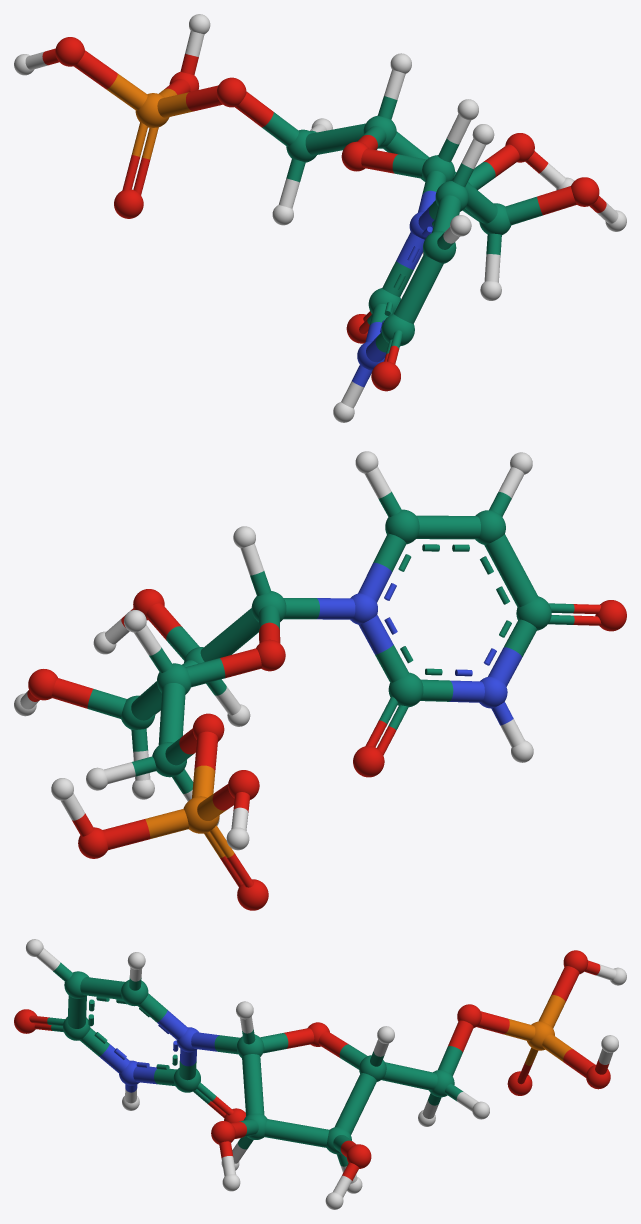
Rendered from UMP.glb.
3 renders of one model, top to bottom at view 1: azimuth 30°, elevation 25°; view 2: azimuth 150°, elevation 25°; view 3: azimuth 270°, elevation 25°, orthographic. The views are drawn at different scales.
Bounding box in the file's own units: 6.9 × 4.39 × 11.32.
